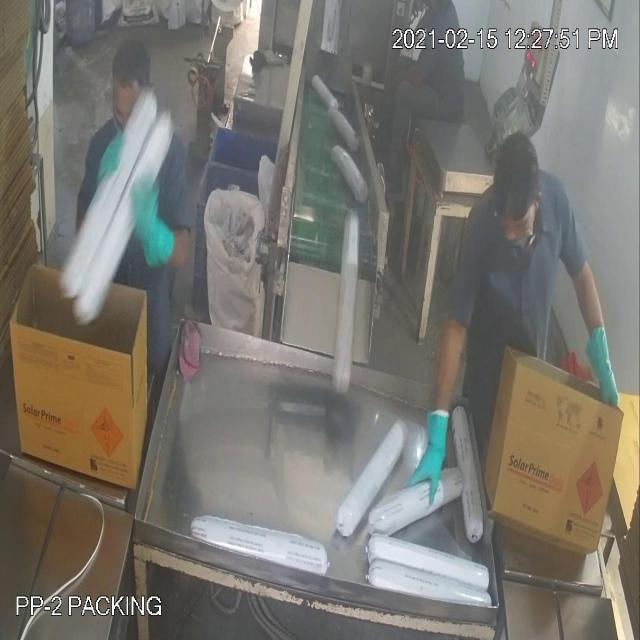Gloves: (52, 52, 601, 450)
